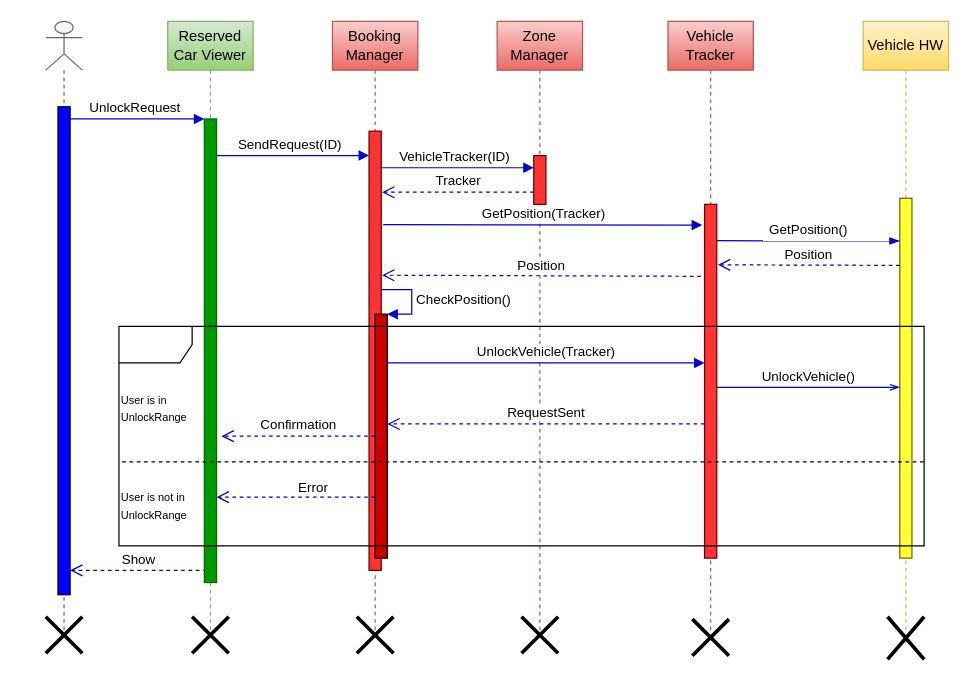
The diagram is 970 pixels wide and 682 high, and some of its shapes have lost their labels. Each missing label, with the box of its shape:
alt: (118, 325, 924, 546)
PowerUser: (45, 20, 82, 631)
